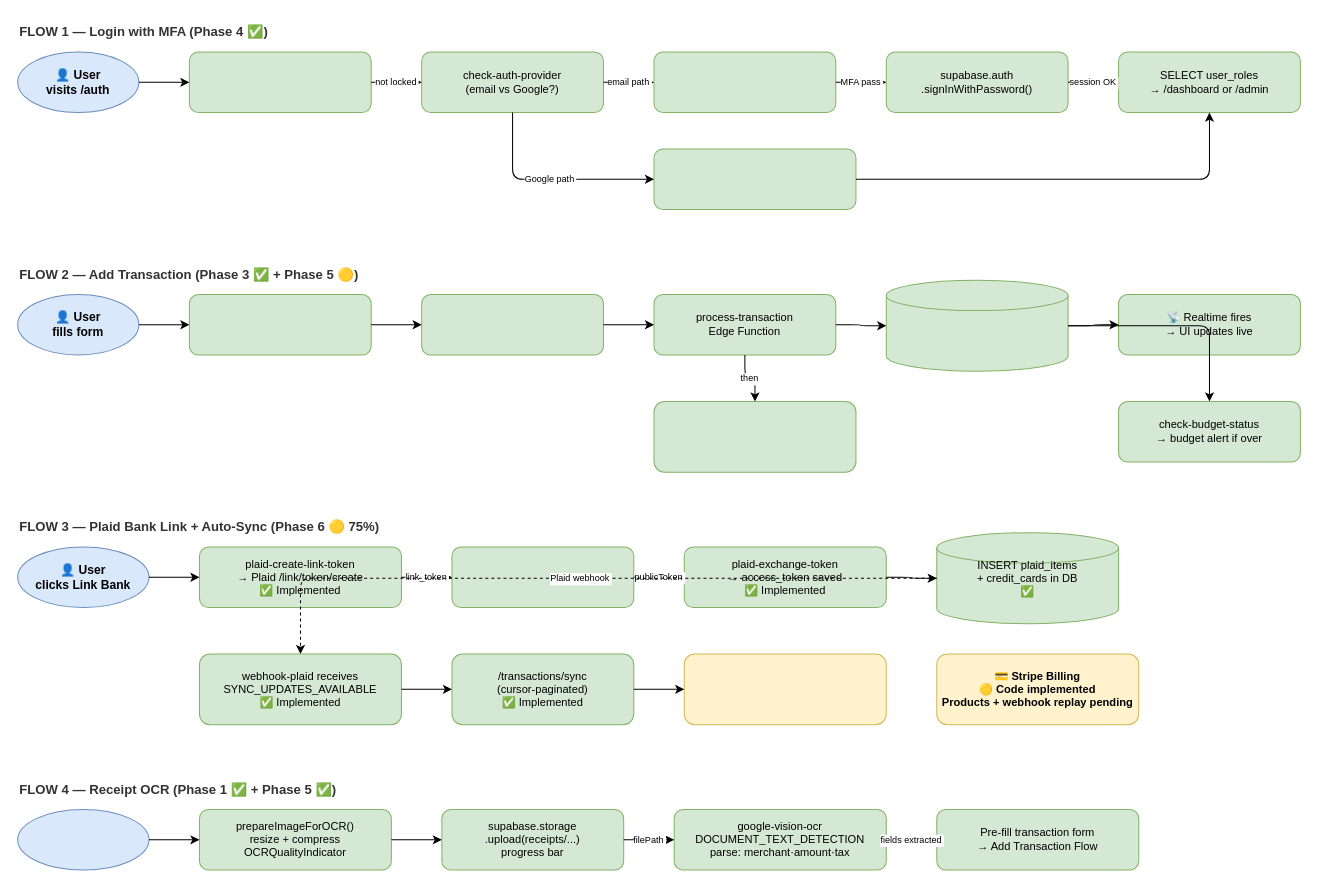
Image size: 1318x888. Some labels were removed from this diagram. Here are the shapes that lost their labels. From the top down, the centre of each, then its label:
point (279, 82): check-login-attempts (rate limit check)
point (744, 82): check-mfa-status mfa-verify-totp
point (754, 179): supabase.auth .signInWithOAuth(google) + audit-google-login
point (279, 324): navigator.geolocation getCurrentPosition()
point (512, 324): Haversine check vs active geofences
point (976, 325): INSERT transactions (user_id, amount, category, geofence_id)
point (754, 436): ai-categorize-transaction Claude → Gemini → GPT-4 UPDATE ai_category
point (542, 577): Plaid Link UI modal (react-plaid-link) ✅ Implemented
point (784, 689): UPSERT transactions ✅ Done REMOVED soft-delete ❌
point (83, 839): 👤 User drops/takes photo
